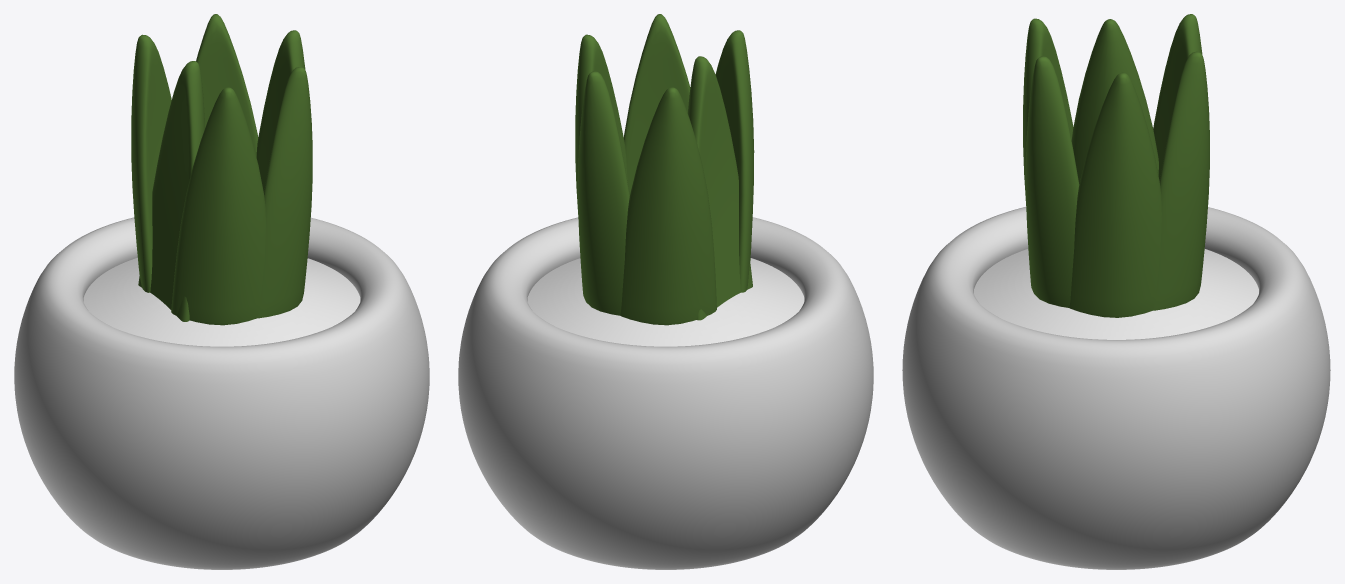
File: aloe.fbx
3 renders of one model, left to right at view 1: azimuth 30°, elevation 25°; view 2: azimuth 150°, elevation 25°; view 3: azimuth 270°, elevation 25°, orthographic. The views are drawn at different scales.
Visible parts, largest first — view 1: round_pot, aloe_leaf, dirt_for_round; view 2: round_pot, aloe_leaf, dirt_for_round; view 3: round_pot, aloe_leaf, dirt_for_round.
Part boxes in pixels (left/top/right/bottom): round_pot: left=14, top=217, right=429, bottom=569; aloe_leaf: left=131, top=14, right=312, bottom=325; dirt_for_round: left=83, top=257, right=360, bottom=346; round_pot: left=458, top=217, right=873, bottom=569; aloe_leaf: left=575, top=14, right=754, bottom=325; dirt_for_round: left=527, top=258, right=804, bottom=346; round_pot: left=902, top=207, right=1330, bottom=569; aloe_leaf: left=1023, top=14, right=1209, bottom=317; dirt_for_round: left=974, top=249, right=1258, bottom=339.
Size of the model in its own units: 124 by 151 by 124.
